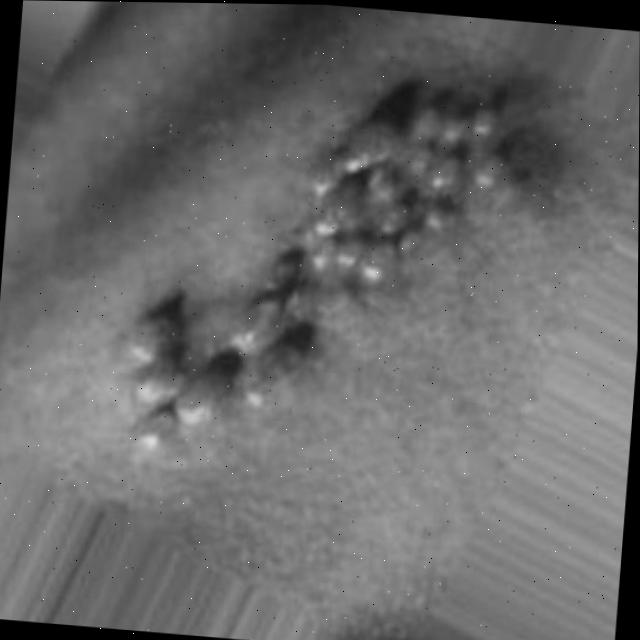Shingles: (114, 61, 541, 497)
